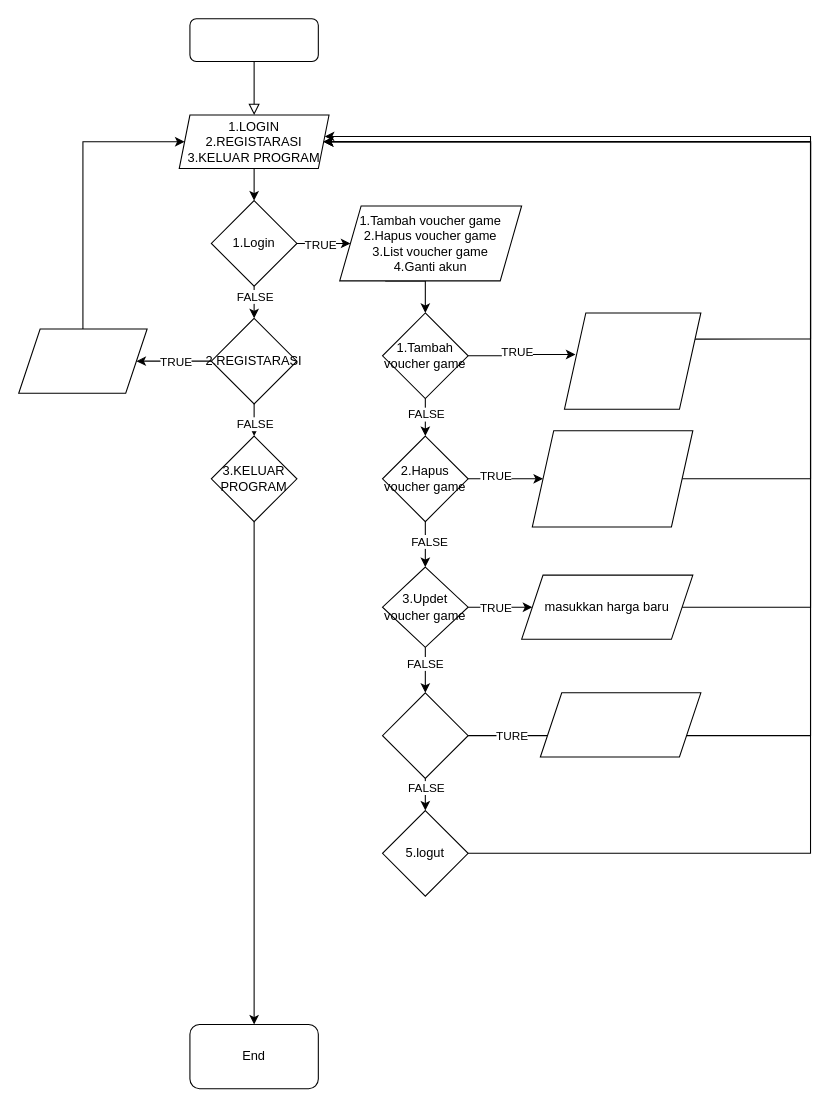
The diagram is 838 pixels wide and 1107 high, and some of its shapes have lost their labels. Each missing label, with the centre of its shape:
"4.list voucher game" belongs at point 424,735.
"masukkan akun baru" belongs at point 82,360.
"masukkan pilihan voucher game yang mau di hapus dari list voucher game" belongs at point 632,360.
"masukkan voucher baru masukkan harga baru" belongs at point 620,724.
"menampilkan voucher game dan menampilkan voucher game yang di tambah" belongs at point 612,478.
"Play" belongs at point 253,40.
